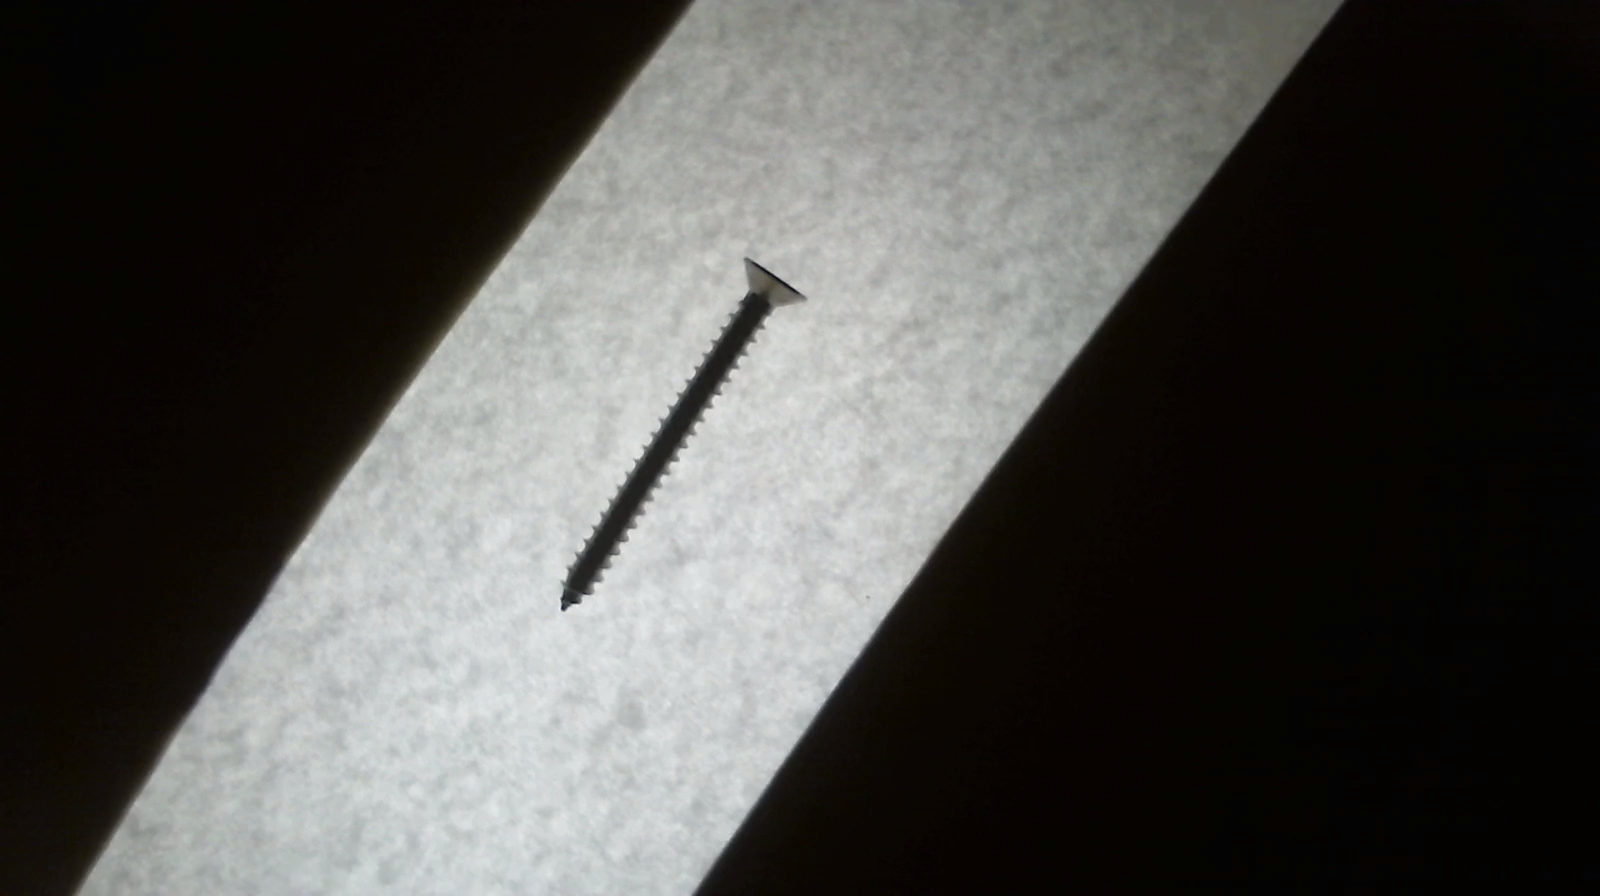S002: (544, 248, 810, 621)
